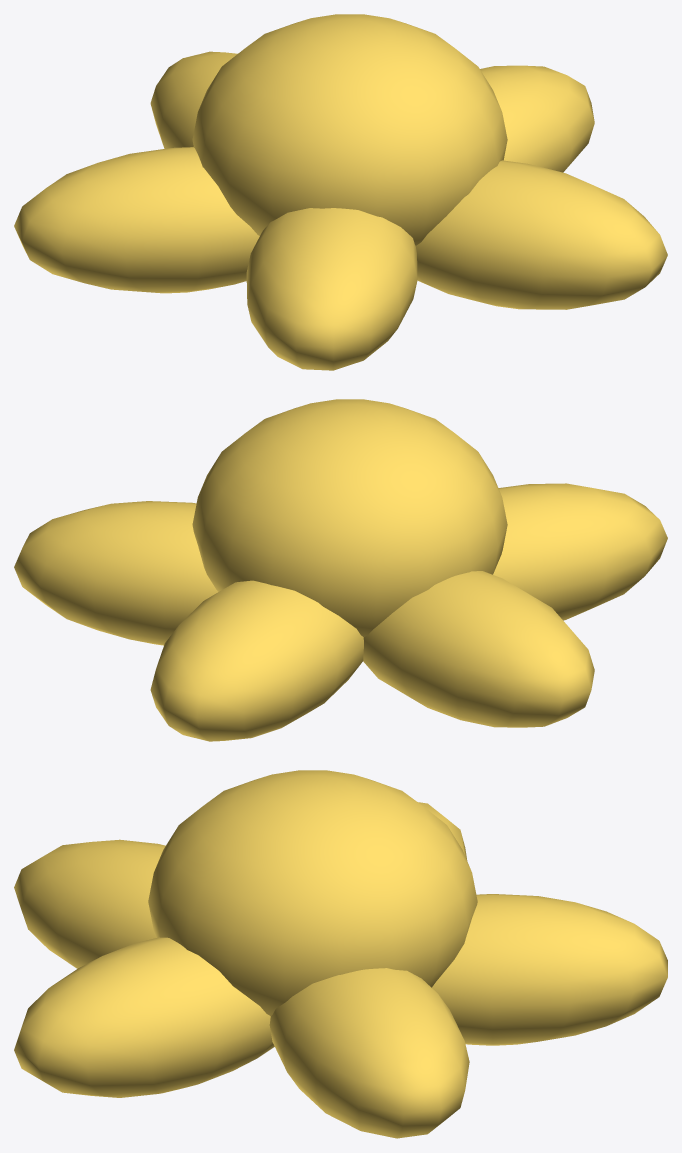
File: charm-star.glb
3 views of the same model, one above another, from view 1: azimuth 30°, elevation 25°; view 2: azimuth 150°, elevation 25°; view 3: azimuth 270°, elevation 25° (orthographic). The views are drawn at different scales.
Visible parts, largest first — view 1: Sphere.005, Sphere.003, Sphere.001, Sphere.002, Sphere.004, Sphere; view 2: Sphere.005, Sphere.001, Sphere, Sphere.004, Sphere.002; view 3: Sphere.005, Sphere.003, Sphere, Sphere.004, Sphere.002.
Boxes of the visible parts, x1,y1,x2,y2 form: Sphere.005: (192,14,507,245); Sphere.003: (415,160,667,309); Sphere.001: (14,147,259,293); Sphere.002: (246,208,417,370); Sphere.004: (480,65,594,172); Sphere: (150,51,237,148); Sphere.005: (192,399,507,636); Sphere.001: (363,571,594,727); Sphere: (150,580,363,741); Sphere.004: (14,501,217,645); Sphere.002: (493,483,667,620); Sphere.005: (148,770,477,1015); Sphere.003: (14,937,274,1097); Sphere: (432,894,667,1045); Sphere.004: (269,968,469,1138); Sphere.002: (14,839,165,968).
Bounding box in the file's own units: 0.00918 × 0.0036 × 0.00873.
